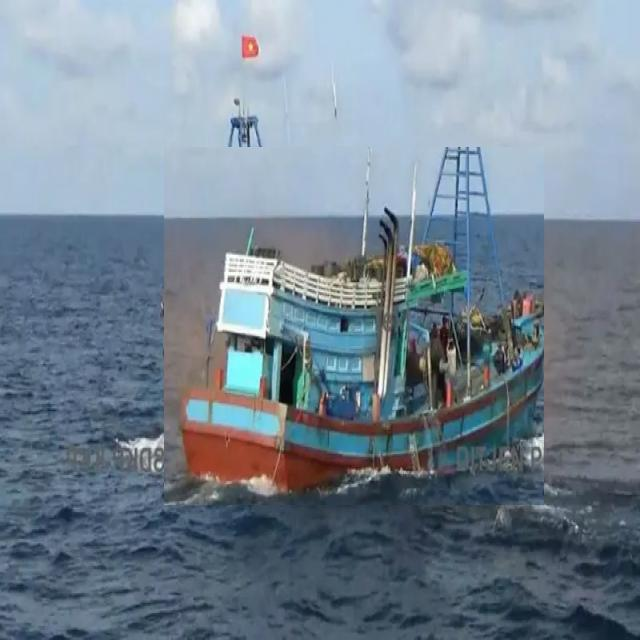Fishing Boat: (164, 148, 544, 506)
